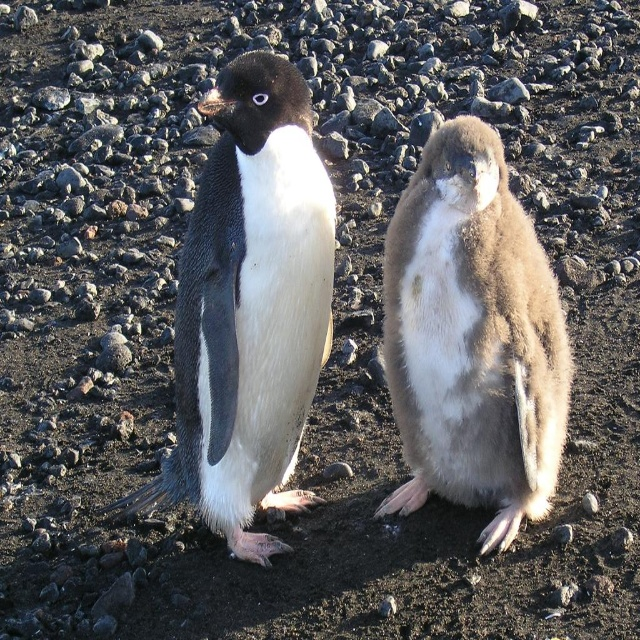Penguin: (111, 50, 352, 575), (370, 109, 575, 550)
